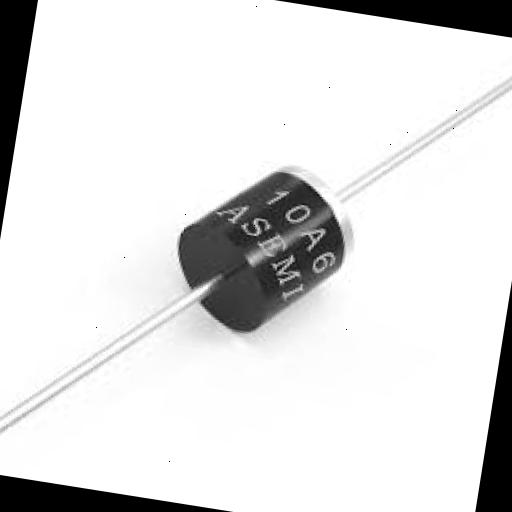DIODE: (148, 95, 421, 399)
